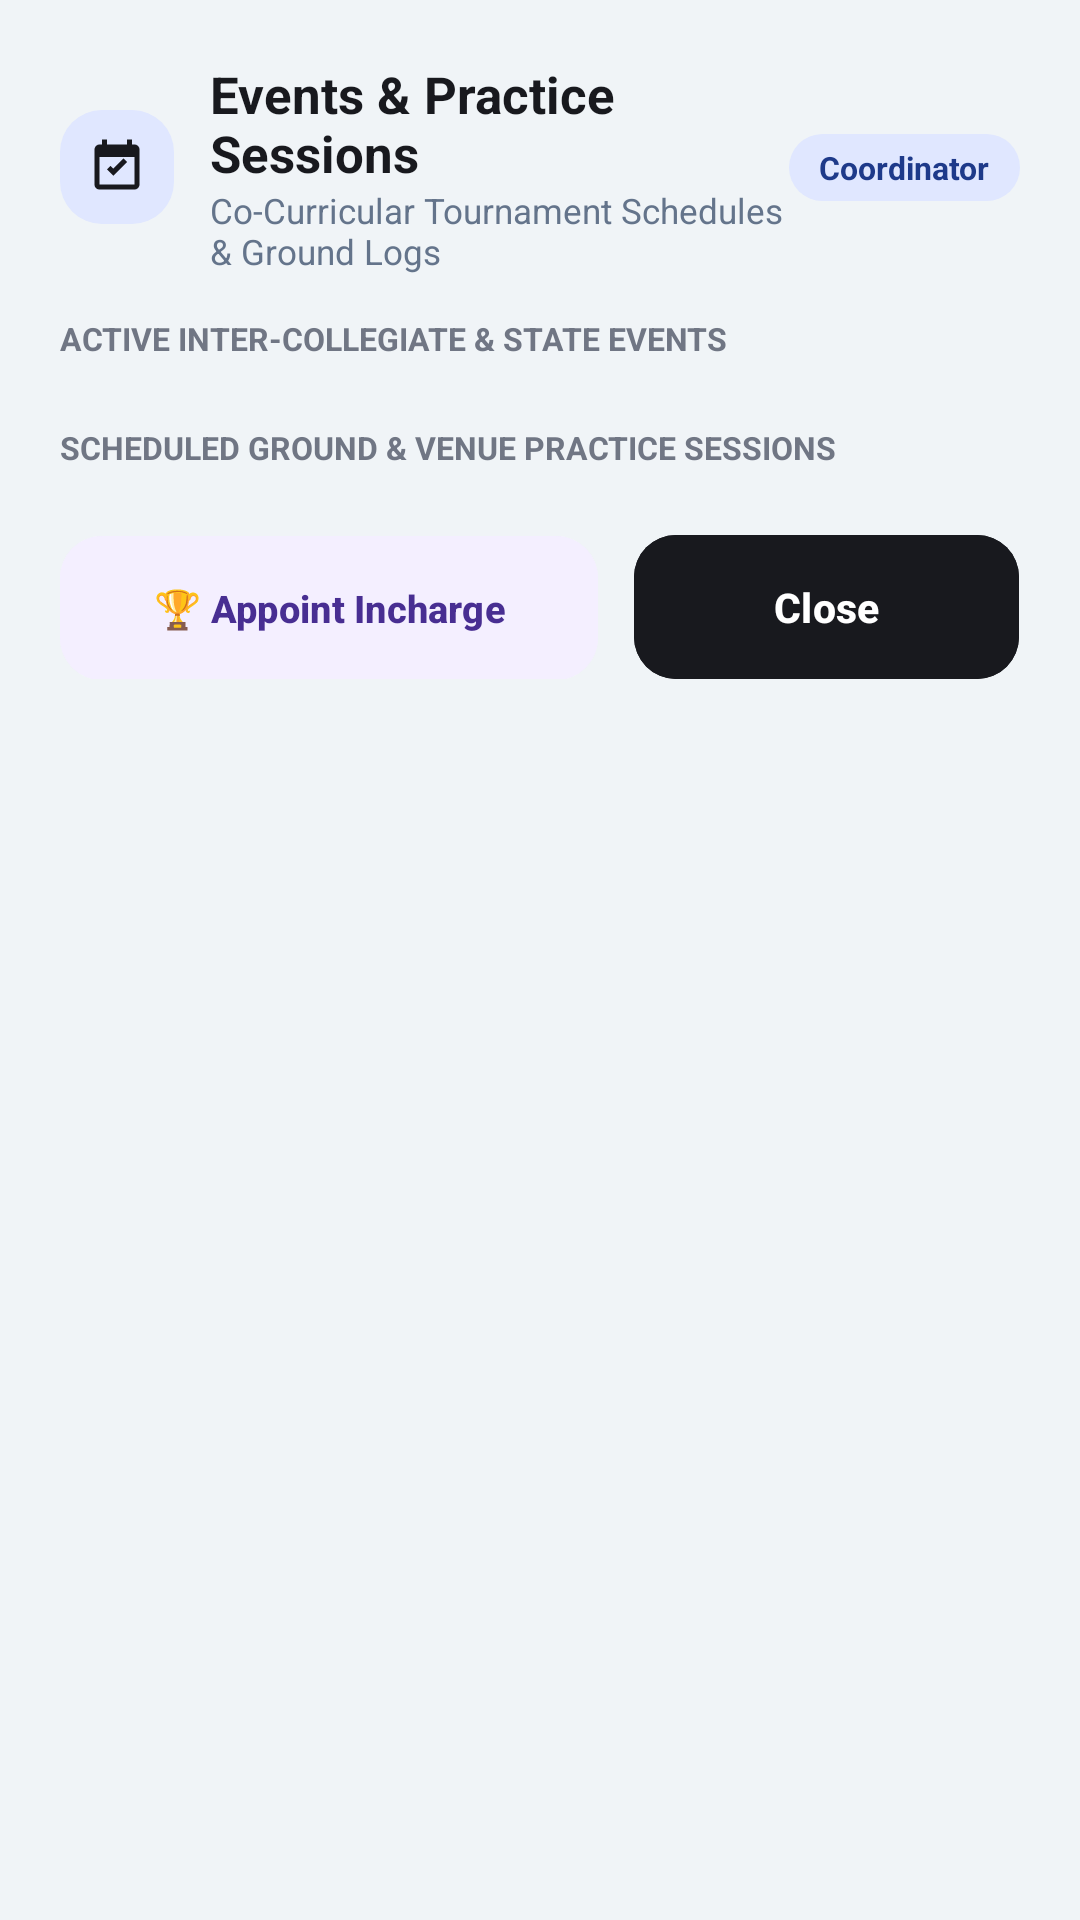

Named icons in this screenshot (1080x1920) and their bounding boxes, bbox=[x1, y1, x2, y2]:
calendar event: bbox=[94, 139, 140, 190]
